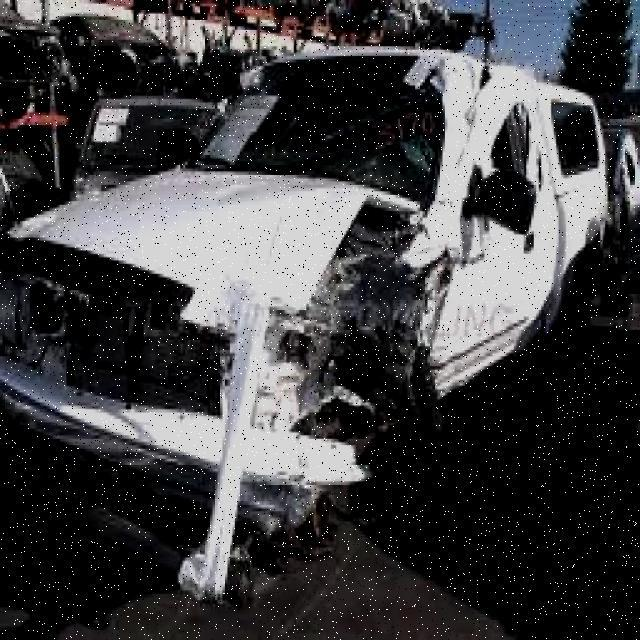car damage: (4, 49, 558, 554)
